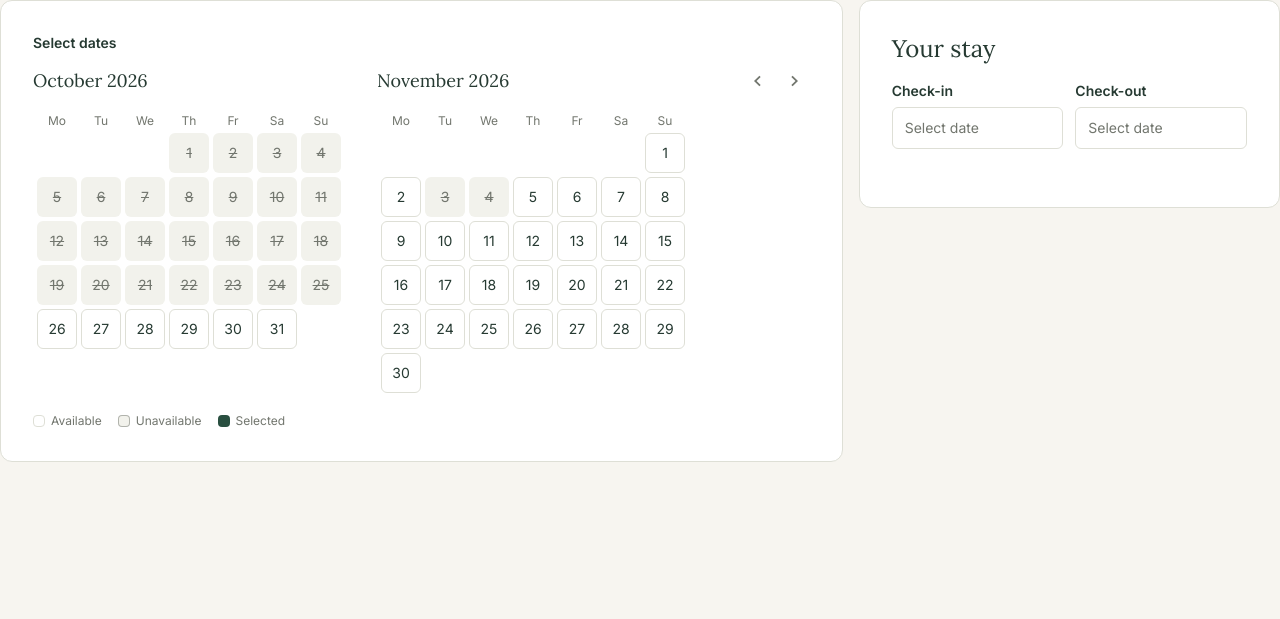
Test: BookingSection › fills in the stay as dates are picked
This screenshot has width=1280, height=619.
Click the button named "Sunday, November 8th, 2026": (665, 197) [645,177,685,217]
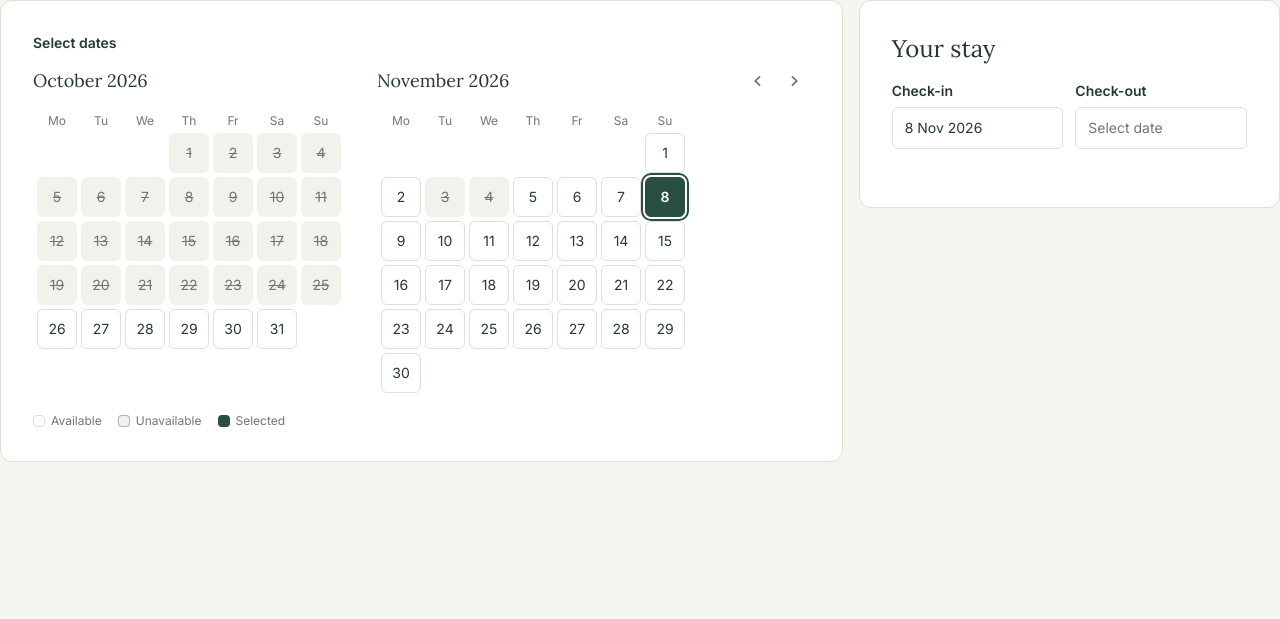
Click the button "11" below "November 2026": (489, 241) [469,221,509,261]
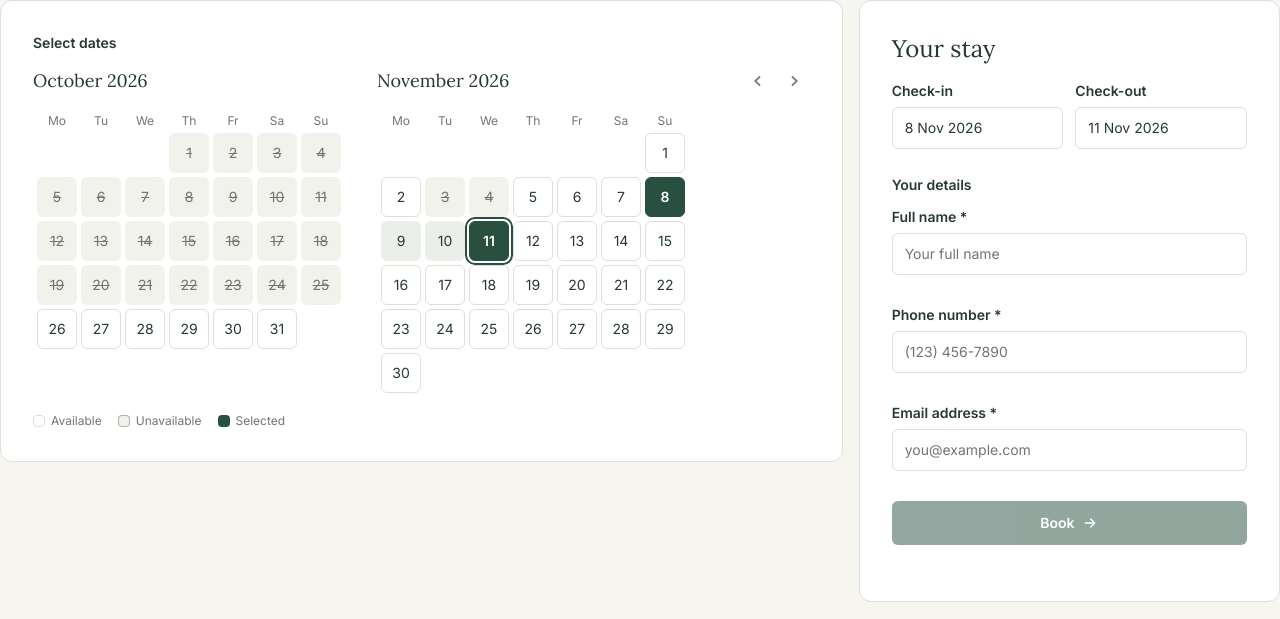
Expected: the field labelled "Check-in" holds "8 Nov 2026", [892,107,1063,149]
Expected: the field labelled "Check-out" holds "11 Nov 2026", [1075,107,1247,149]
